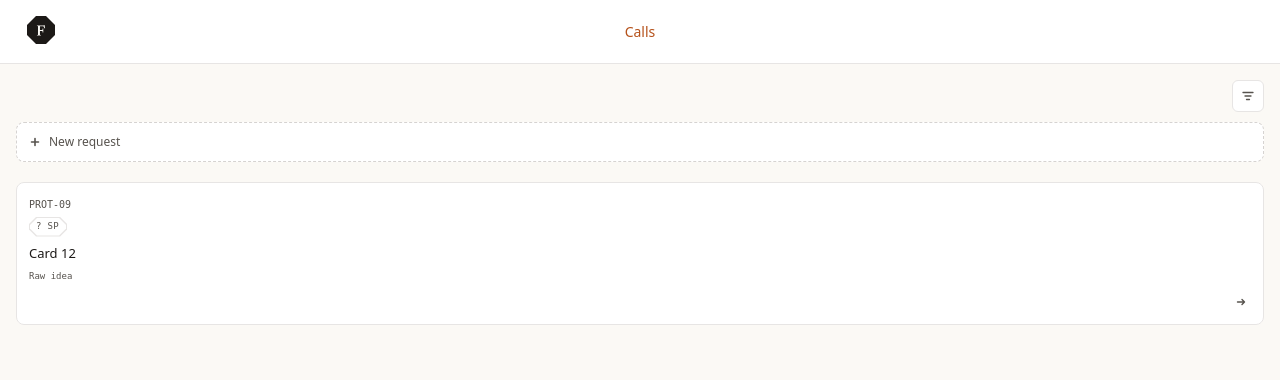
Test case: Board, below 768px › puts the card back and says why when the server refuses
The image size is (1280, 380).
Click the button named "Move PROT-09 to To Do" at (1241, 302), box top-left (1227, 288), bottom-right (1255, 316)
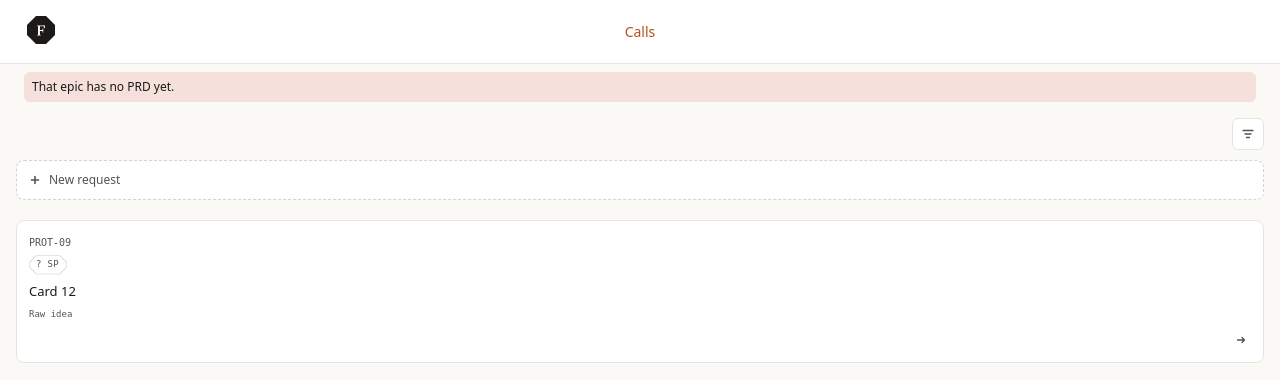
Expected: the message reads "That epic has no PRD yet.", top-left (32, 78), bottom-right (174, 95)
